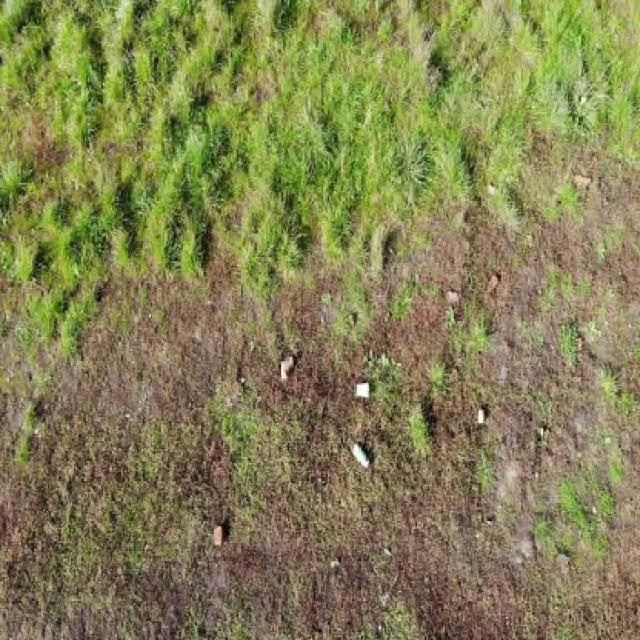Garbage: (352, 442, 370, 471), (355, 382, 369, 400)
